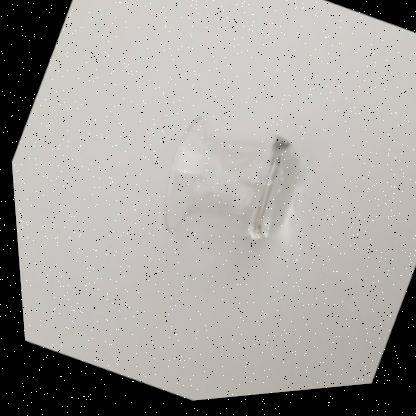Glass: (160, 122, 297, 244)
